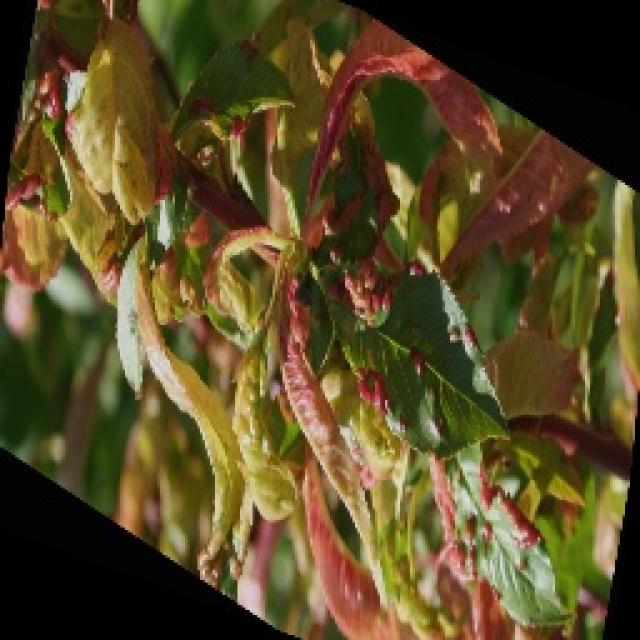Chlorosis: (0, 0, 635, 638)
